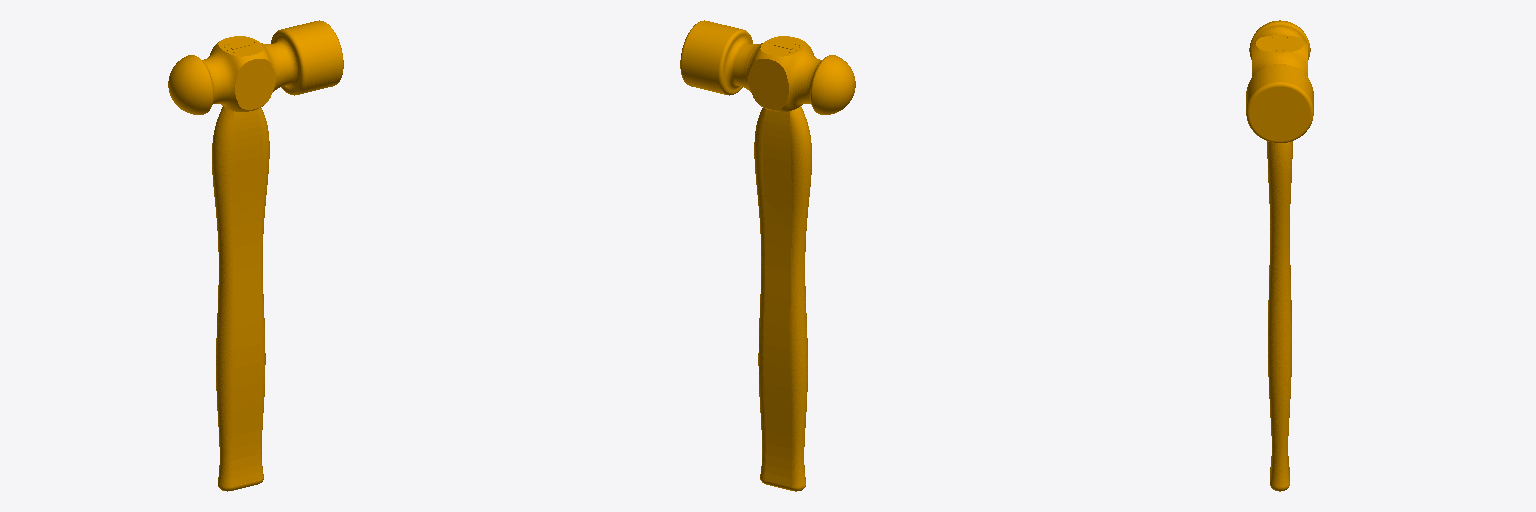
The robot description file, URDF, robot "hammer_2_L0.60_T0.60":
<?xml version="1.0" encoding="utf-8"?>
<robot name="hammer_2_L0.60_T0.60">
  <link name="hammer_2_L0.60_T0.60Link">
    <contact>
      <lateral_friction value="1"/>
    </contact>
    <inertial>
      <origin rpy="0 0 0" xyz="0 0 0"/>
      <mass value="0.0"/>
      <inertia ixx="0" ixy="0" ixz="0" iyy="0" iyz="0" izz="0"/>
    </inertial>
    <visual>
      <origin rpy="0 0 0" xyz="0 0 0"/>
      <geometry>
        <mesh filename="generated_stl/hammer/hammer_2/hammer_2_L0.60_T0.60/hammer_2_L0.60_T0.60.stl" scale="0.01 0.01 0.01"/>
      </geometry>
    </visual>
    <collision>
      <origin rpy="0 0 0" xyz="0 0 0"/>
      <geometry>
        <mesh filename="generated_stl/hammer/hammer_2/hammer_2_L0.60_T0.60/hammer_2_L0.60_T0.60.stl" scale="0.01 0.01 0.01"/>
      </geometry>
    </collision>
  </link>
</robot>

--- What the picture shows (computed from the rendered views, not written in the file) ---
3 views of the same robot in one strip: view 1: azimuth 30°, elevation 25°; view 2: azimuth 150°, elevation 25°; view 3: azimuth 270°, elevation 25° (orthographic).
Robot: hammer_2_L0.60_T0.60 — 1 links, 0 joints (none); root link hammer_2_L0.60_T0.60Link; default pose: every joint at zero.
Visible links, largest first — view 1: hammer_2_L0.60_T0.60Link; view 2: hammer_2_L0.60_T0.60Link; view 3: hammer_2_L0.60_T0.60Link.
Link boxes in pixels (box(x1,y1,x2,y2)): hammer_2_L0.60_T0.60Link: box(168, 20, 343, 491); hammer_2_L0.60_T0.60Link: box(680, 20, 855, 491); hammer_2_L0.60_T0.60Link: box(1246, 20, 1313, 491).
Size in the robot's own frame: 0.06 by 0.0225 by 0.163 metres.
1 mesh visuals loaded from 1 distinct referenced files (1 binary STL).